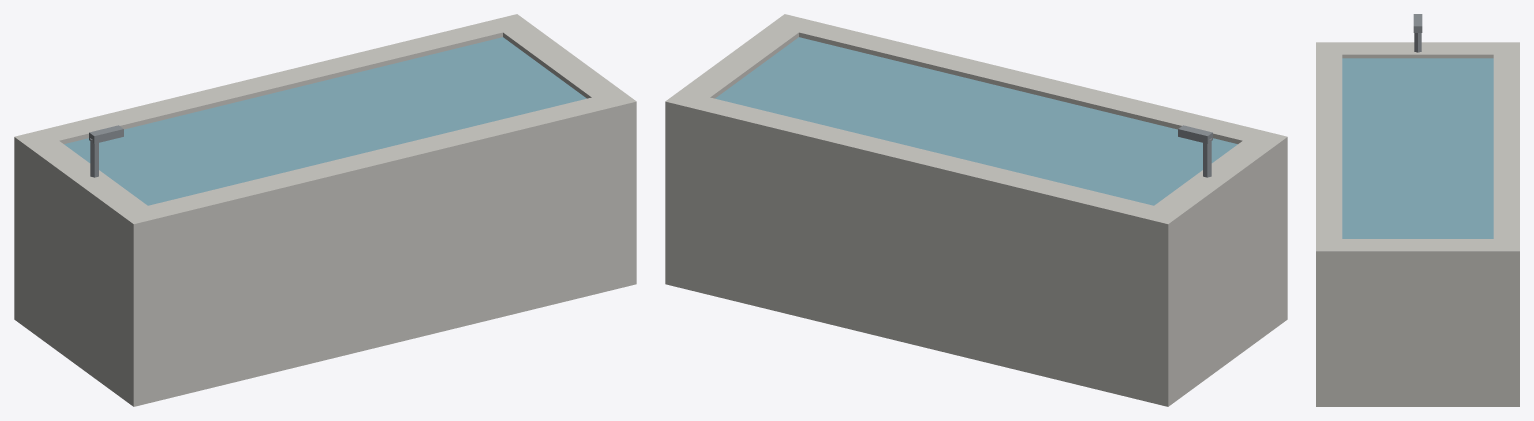
The model's file is bath.glb.
The picture shows the model from 3 angles, left to right: view 1: azimuth 30°, elevation 25°; view 2: azimuth 150°, elevation 25°; view 3: azimuth 270°, elevation 25°; orthographic projection. The views are drawn at different scales.
Visible parts, largest first — view 1: bath; view 2: bath; view 3: bath.
Part boxes in pixels (x1,y1,x2,y2): bath: (14,14,636,406); bath: (665,14,1287,406); bath: (1316,14,1519,406).
Bounding box in the file's own units: 1.7 × 0.725 × 0.7.
